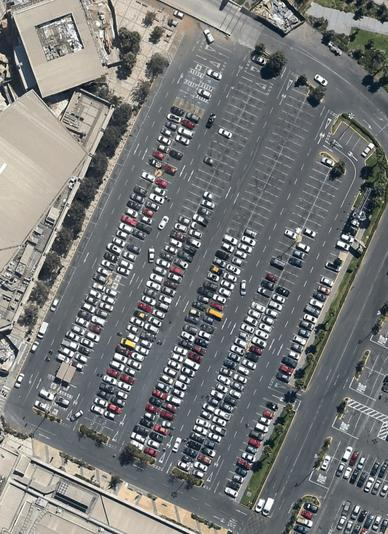parkingspot: (126, 81, 312, 454), (142, 95, 323, 460), (95, 88, 269, 439), (80, 81, 254, 431), (172, 153, 334, 475), (189, 167, 347, 482), (27, 60, 172, 357), (69, 111, 203, 375), (54, 104, 187, 367), (272, 230, 357, 384), (219, 398, 279, 500), (318, 454, 388, 500), (325, 436, 388, 480), (332, 120, 376, 162), (340, 499, 388, 534), (339, 404, 385, 438), (291, 502, 321, 534), (357, 365, 388, 393), (364, 350, 388, 377), (32, 388, 56, 413), (200, 67, 224, 90), (175, 81, 198, 104), (333, 516, 356, 534), (47, 404, 67, 420), (190, 96, 210, 111), (184, 71, 203, 86), (189, 60, 208, 74), (196, 86, 215, 100), (168, 38, 182, 56), (54, 394, 72, 408)
